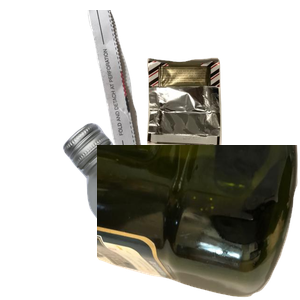glass: (60, 120, 300, 300)
paper: (85, 10, 224, 190)
plastic: (97, 145, 300, 300)
trash: (144, 55, 300, 197)
